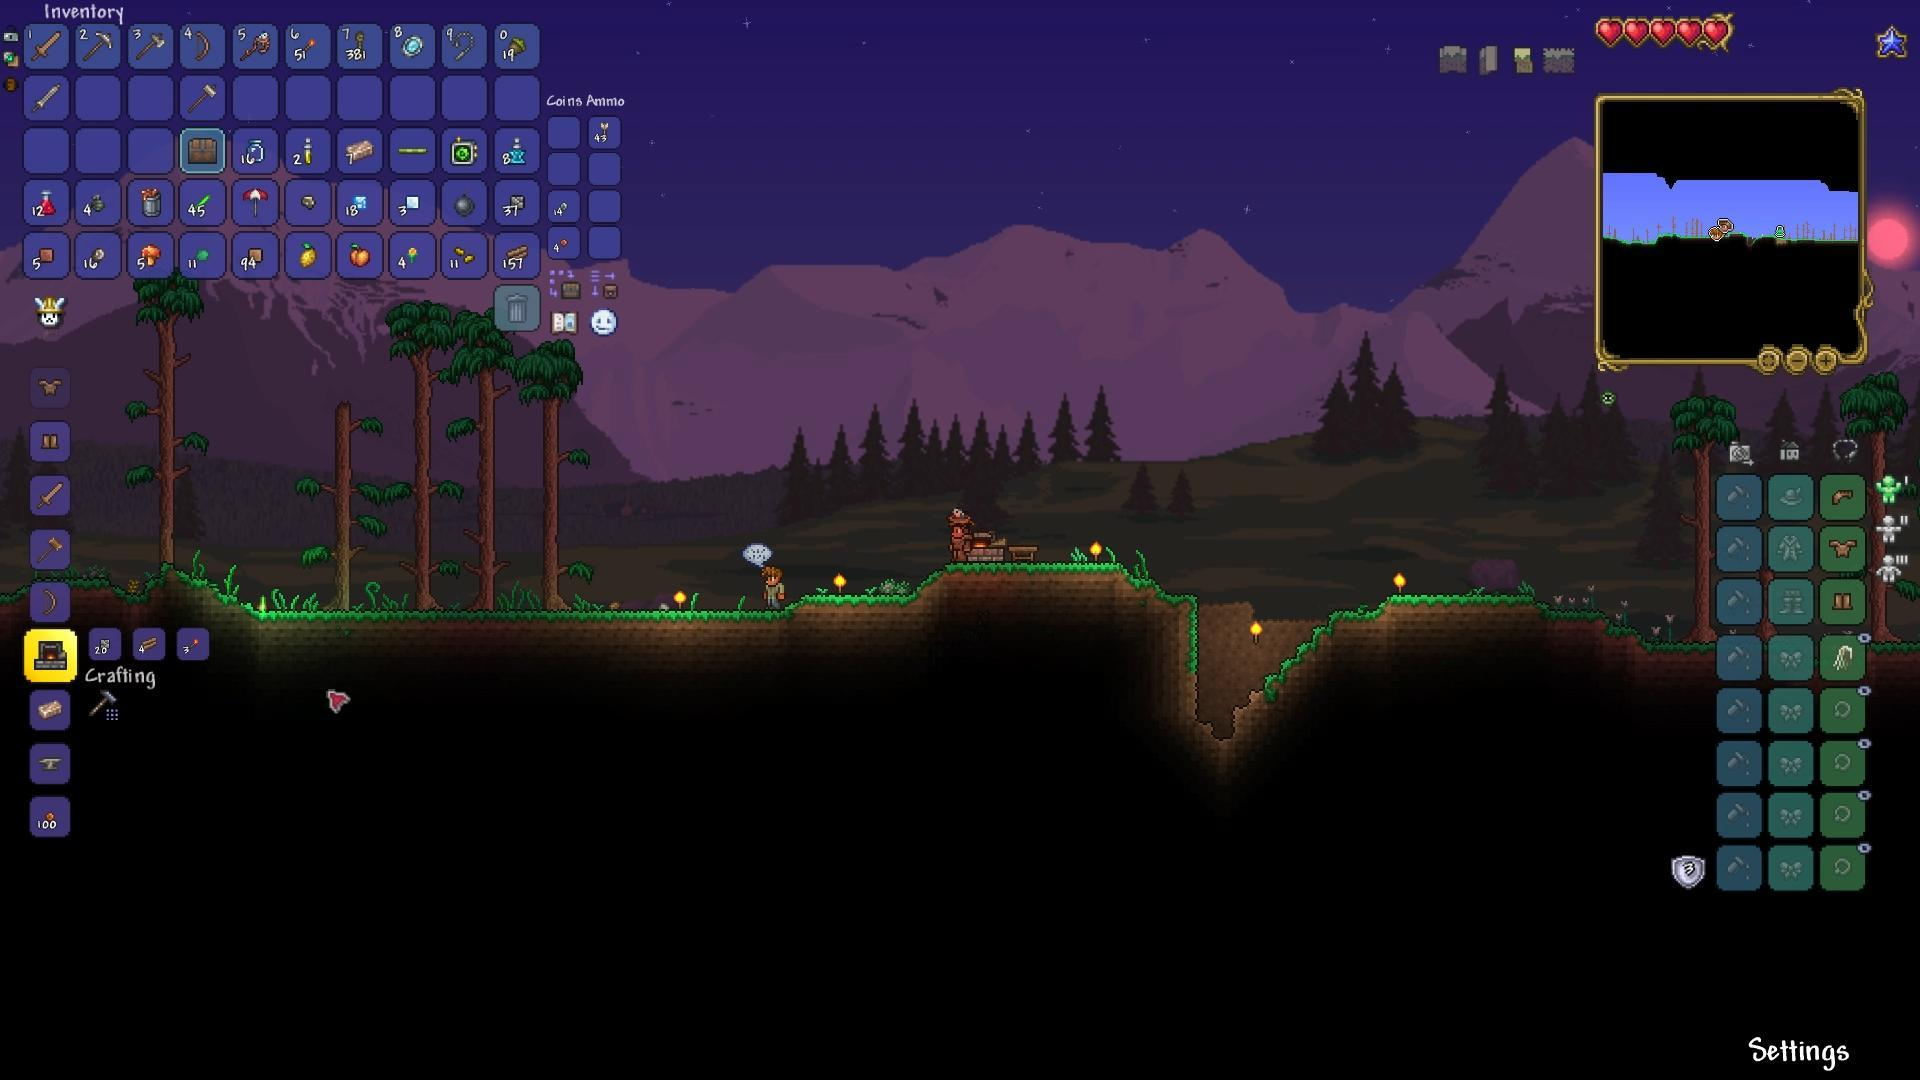furnace: (961, 522, 1009, 567)
grenade: (87, 187, 108, 211)
potion: (37, 187, 62, 218)
